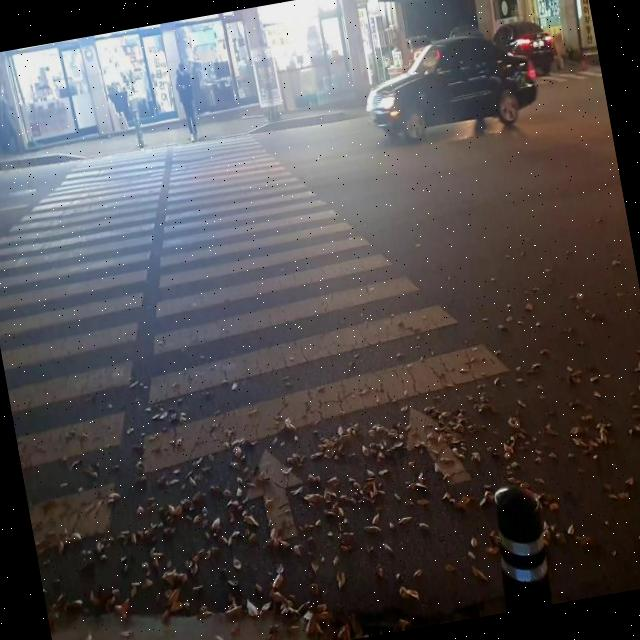crosswalk: (0, 133, 570, 560)
